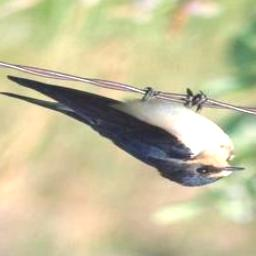Swallow: (0, 70, 248, 190)
